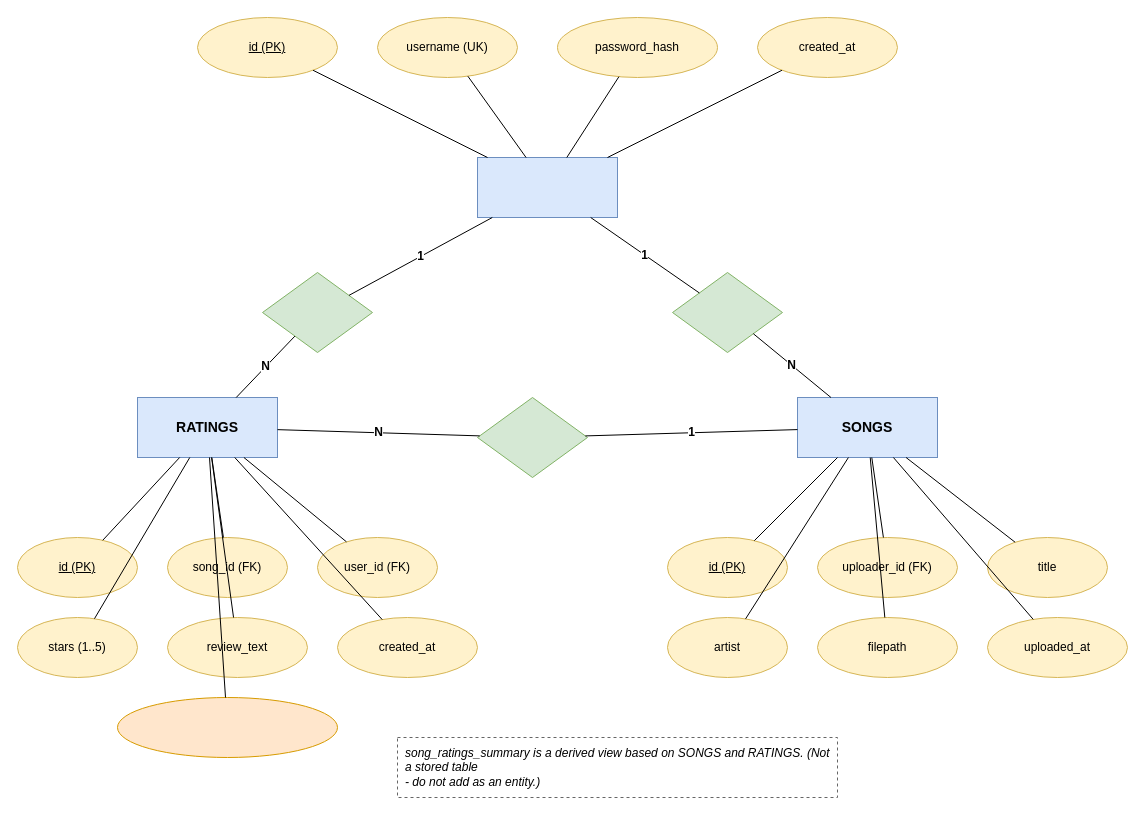
Image size: 1145x815. Some labels were removed from this diagram. The centre of each missing label's shape, as x and y in pixels:
gives: point 317,312
receives: point 532,437
song_id + user_id (UK): point 227,727
uploads: point 727,312
USERS: point 547,187
